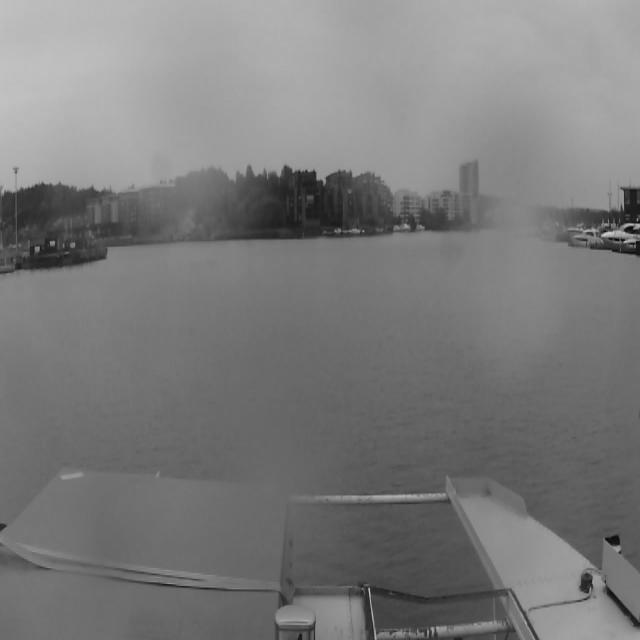ship: (603, 220, 637, 257), (570, 225, 598, 248)
